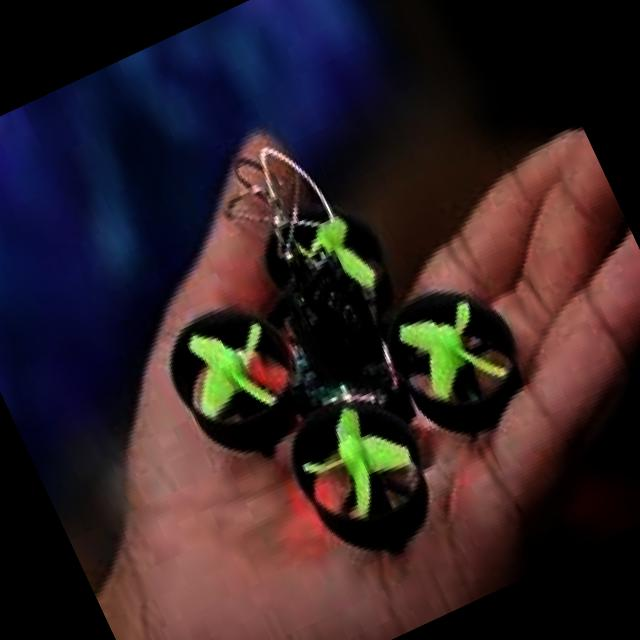drone: (96, 84, 585, 624)
